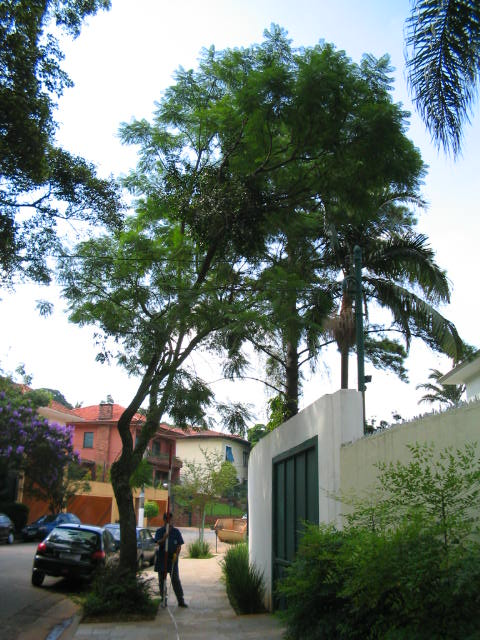crown: (64, 24, 426, 364)
stem: (100, 453, 154, 604)
stick: (158, 443, 175, 608)
tree: (64, 23, 426, 606)
